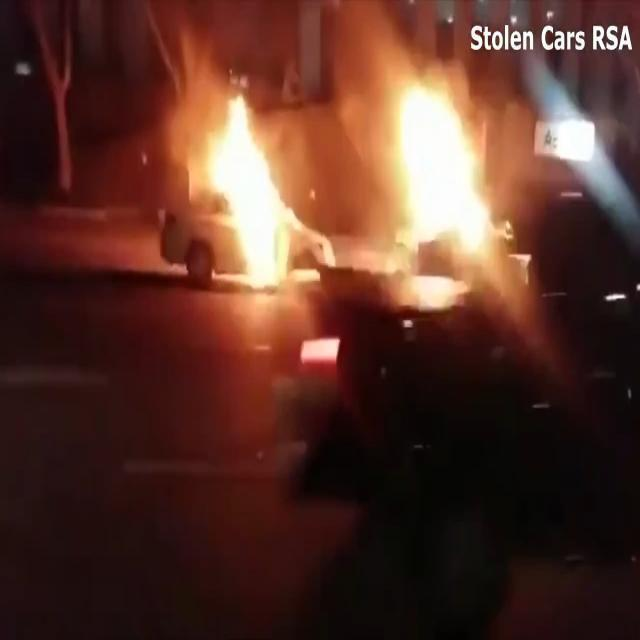fire: (388, 78, 495, 266), (204, 98, 295, 298)
